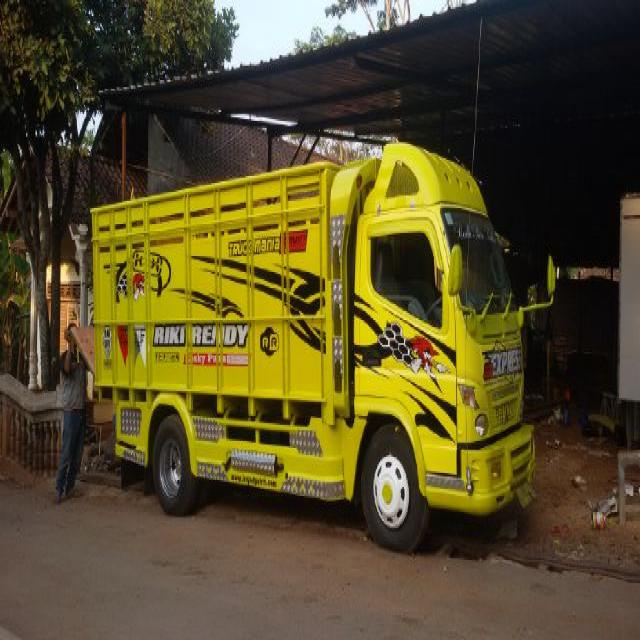truck: (91, 135, 560, 537)
